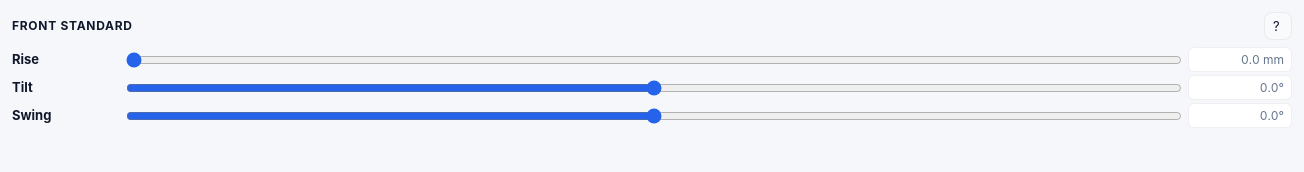
Test: MovementControls › renders front-standard compact rows and updates the existing movement setters
Check: the heading "Front standard" is shown, box 12,19 -> 133,33
Set the slider labelled "Tilt" to "3.2" at (820, 88), box 126,80 -> 1182,96
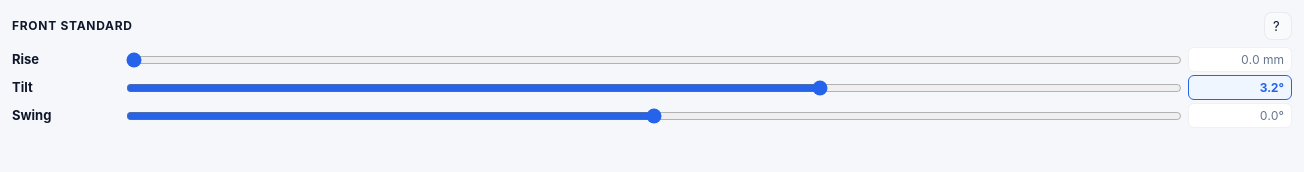
Check: the text with class "compact-range-row__value" reads "3.2°", box 1260,80 -> 1284,95
